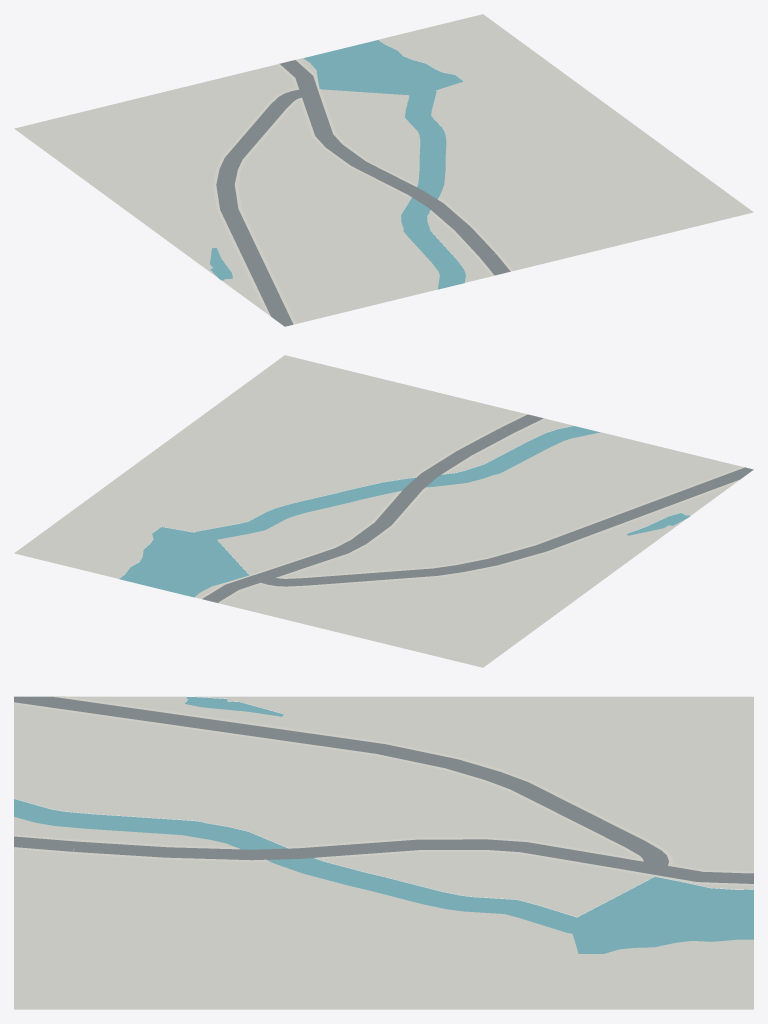
The picture shows the model from 3 angles, top to bottom: view 1: azimuth 30°, elevation 25°; view 2: azimuth 150°, elevation 25°; view 3: azimuth 270°, elevation 25°; orthographic projection. The views are drawn at different scales.
Parts seen in each view (by area): view 1: city; view 2: city; view 3: city.
Part boxes in pixels (box(x1,y1,x2,y2)): city: box(14, 14, 753, 326); city: box(14, 355, 753, 667); city: box(14, 696, 753, 1009).
Bounding box in the file's own units: 500 × 0.4 × 500.
